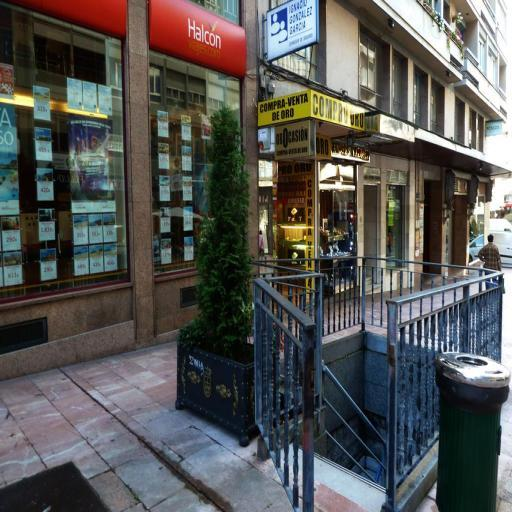trash-can: (436, 341, 507, 512)
